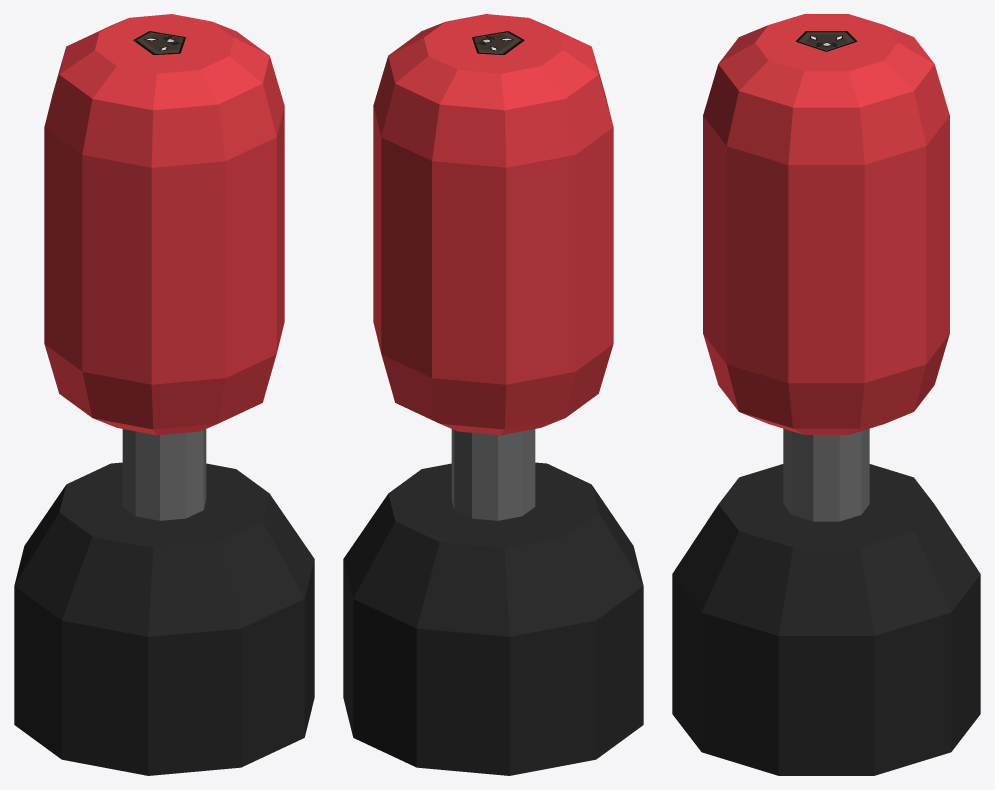
Rendered from bolsa.fbx.
3 views of the same model, side by side, from view 1: azimuth 30°, elevation 25°; view 2: azimuth 150°, elevation 25°; view 3: azimuth 270°, elevation 25° (orthographic).
Parts seen in each view (by area): view 1: Cylinder.003, Cylinder.002; view 2: Cylinder.003, Cylinder.002; view 3: Cylinder.003, Cylinder.002.
Boxes of the visible parts, box(x1,y1,x2,y2) form: Cylinder.003: box(44, 14, 284, 435); Cylinder.002: box(14, 429, 314, 775); Cylinder.003: box(373, 14, 613, 435); Cylinder.002: box(343, 429, 643, 775); Cylinder.003: box(703, 14, 949, 434); Cylinder.002: box(672, 428, 980, 775).
Bounding box in the file's own units: 190 × 481 × 200.
